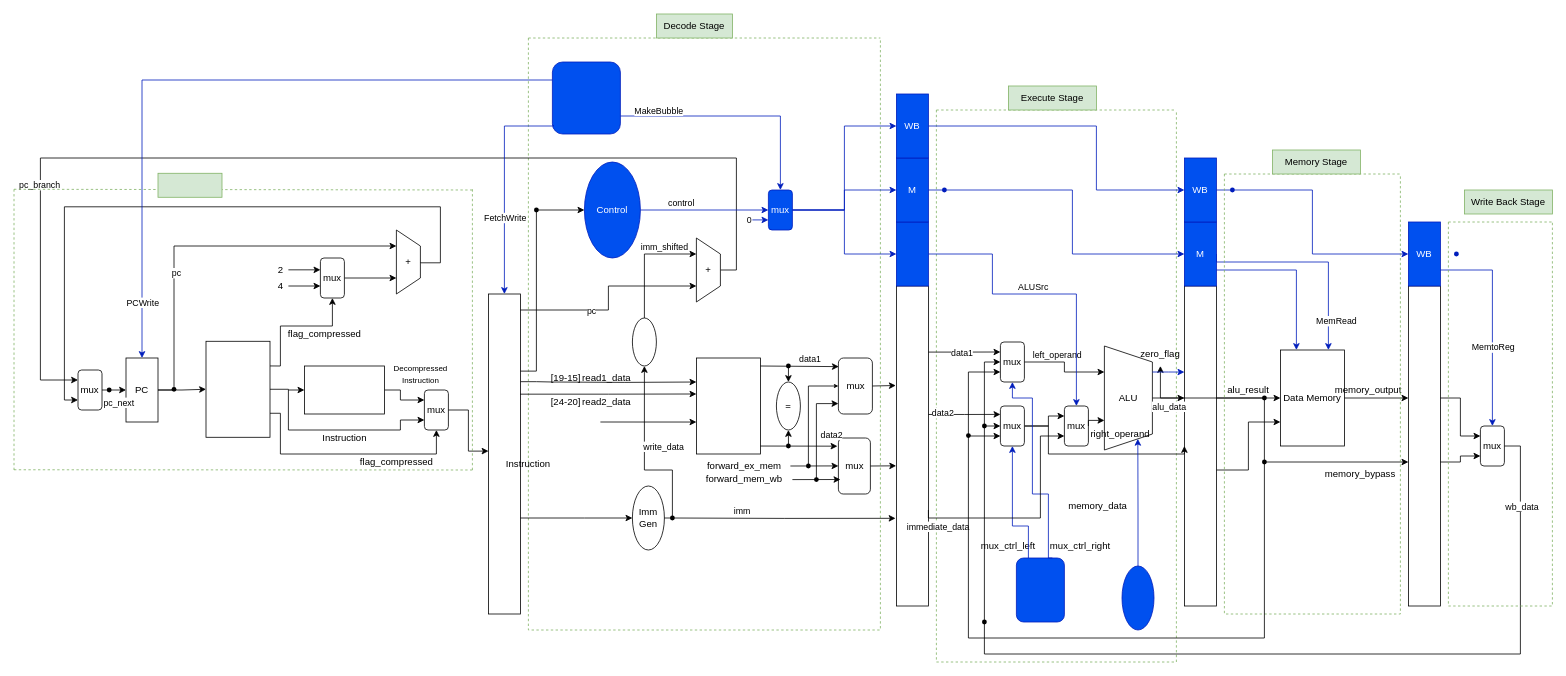
This 1566x676 diagram has some shape labels left out. Here are the shapes that lost their labels. From the top down, the centre of each, then its label:
point (586, 97): Hazard Detection Unit
point (189, 184): fetch_stage.sv
point (912, 253): EX
point (644, 341): Shift Left 1
point (237, 388): Instruction Memory
point (344, 389): Decompressor
point (728, 405): Registers
point (1312, 393): MemWrite
point (504, 453): IF/ID
point (912, 445): ID/EX
point (1200, 445): EX/MEM
point (1424, 445): MEM/WB
point (1040, 589): Forwarding Unit
point (1137, 597): ALU Control
